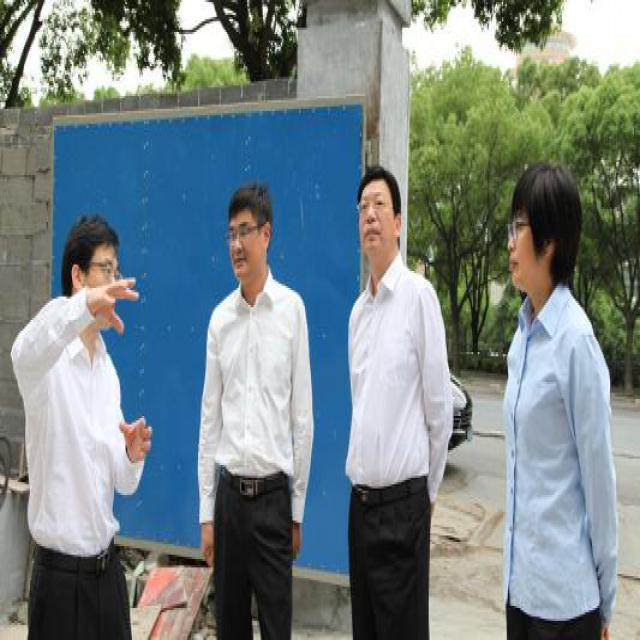head: (508, 157, 581, 310), (222, 176, 275, 293), (353, 159, 403, 274), (63, 212, 120, 302)
person: (484, 153, 628, 640), (179, 170, 324, 632), (333, 151, 466, 639), (10, 200, 159, 625)
